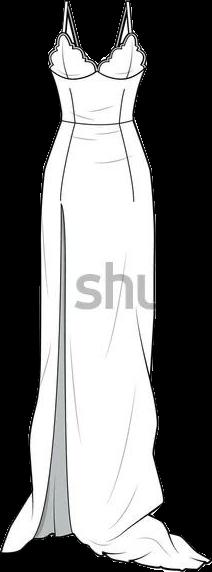Bodice: (48, 0, 146, 125)
Hemline: (0, 202, 211, 571)
Neckline: (45, 29, 150, 73)
Skirt: (1, 118, 209, 570)
Waistline: (58, 116, 137, 131)
